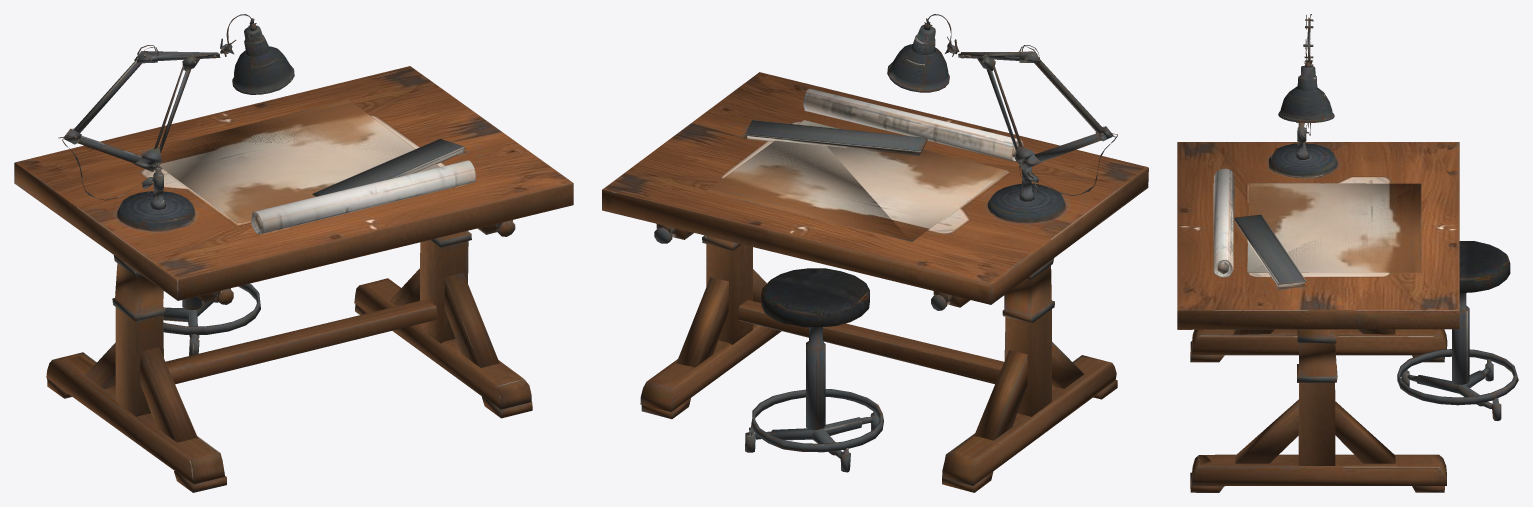
File: office-drafting-table.glb
The picture shows the model from 3 angles, left to right: view 1: azimuth 30°, elevation 25°; view 2: azimuth 150°, elevation 25°; view 3: azimuth 270°, elevation 25°; orthographic projection. The views are drawn at different scales.
Parts seen in each view (by area): view 1: drafting-table; view 2: drafting-table; view 3: drafting-table.
Part boxes in pixels (x1=…): drafting-table: x1=14, y1=14, x2=573, y2=492; drafting-table: x1=602, y1=14, x2=1148, y2=492; drafting-table: x1=1177, y1=14, x2=1518, y2=492.
Bounding box in the file's own units: 1.3 × 1.14 × 1.
1 material, 1 textured.
